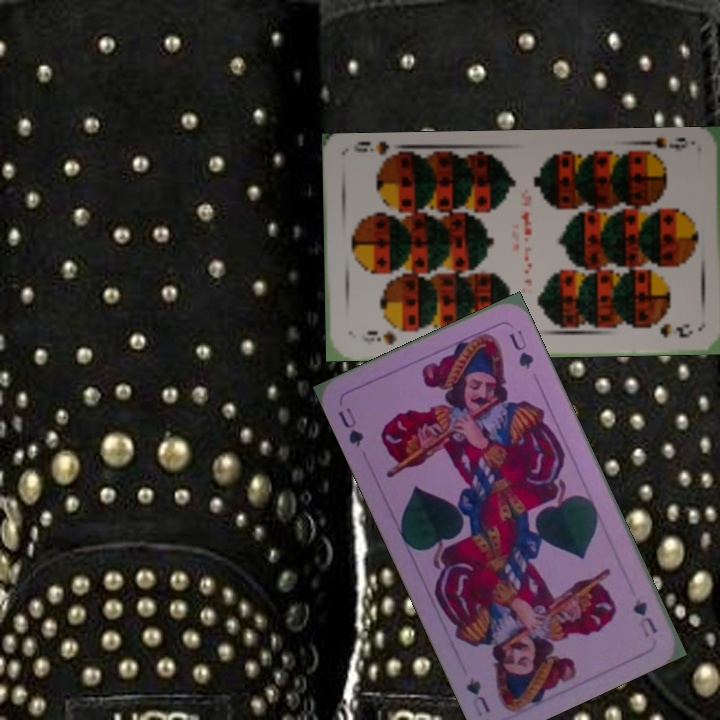GU: (334, 403, 367, 450), (628, 594, 660, 640)
S9: (637, 134, 696, 161), (359, 326, 399, 347)
